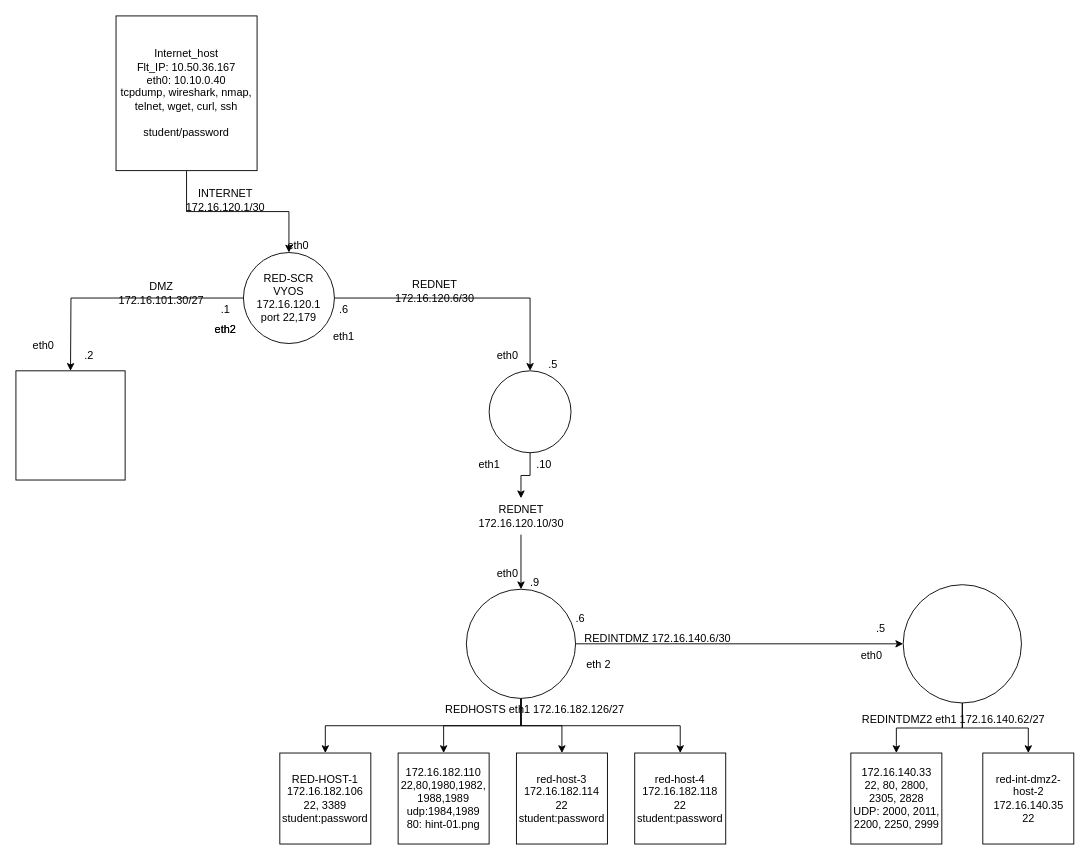
Some shapes in this 1090 by 860 pixel diagram are drawn without their labels. Here are the shapes that lost their labels. From the top down, the centre of each, then its label:
At [70,425]: "sred-dmz-host-1 172.16.101.2 22, 4444(4) student/password".
At [529,411]: "RED-IPS 172.16.120.5 port 22 vyos:password".
At [520,643]: "RED-POP 172.16.120.9 port 22 vyos:password".
At [961,643]: "RED-POP2 172.16.140.5 port 22 vyos:password".
